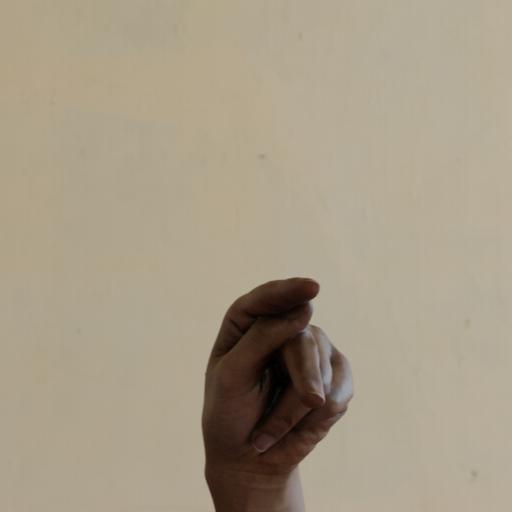P: (179, 264, 363, 510)
